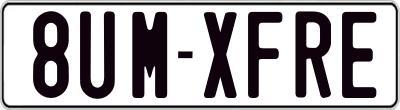8: (33, 10, 74, 97)
E: (340, 12, 379, 101)
F: (247, 11, 287, 99)
M: (129, 9, 164, 101)
R: (294, 8, 333, 96)
U: (80, 9, 117, 99)
X: (202, 9, 240, 99)
